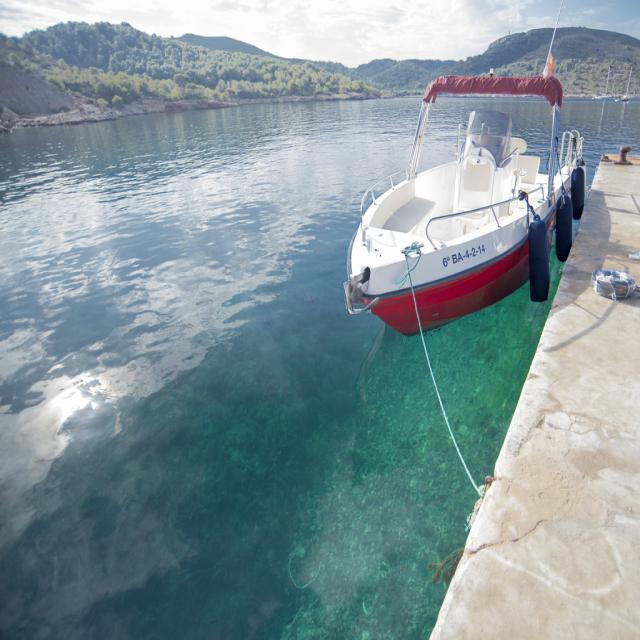Boat: (359, 47, 613, 326), (592, 67, 610, 99), (621, 66, 632, 101)
